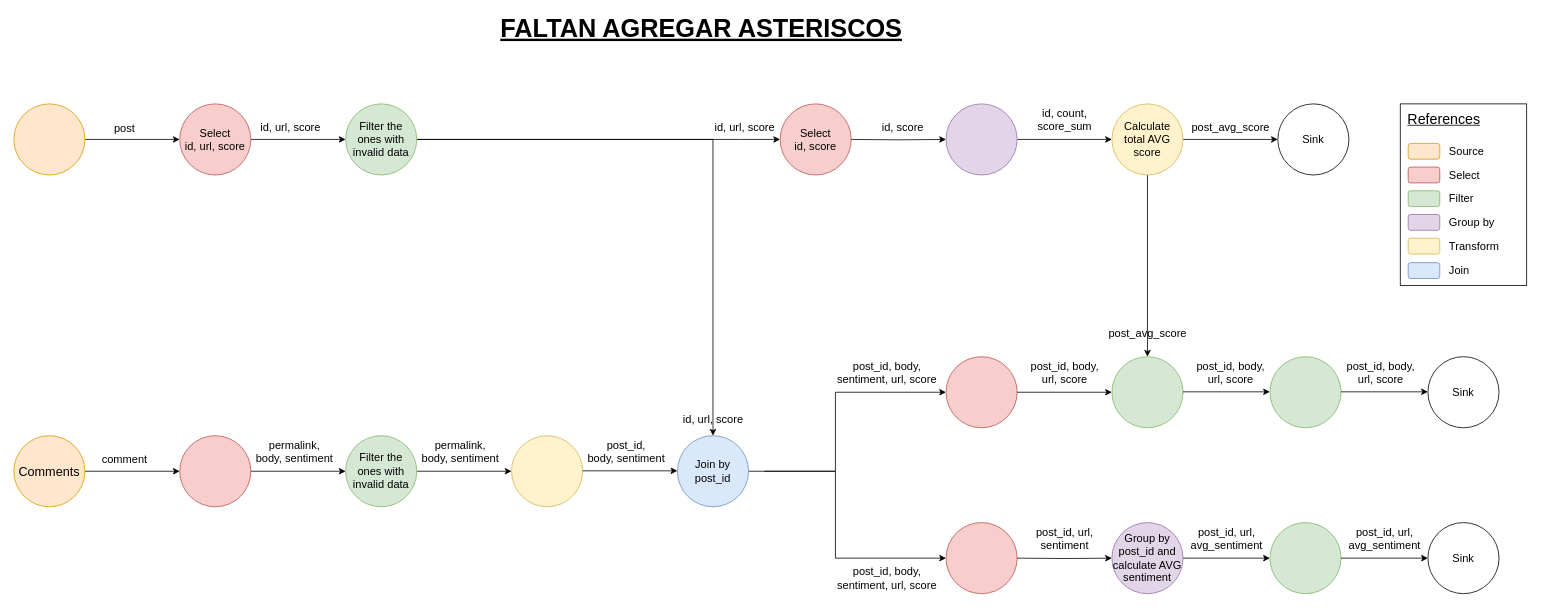
Image size: 1541x608. Some labels were removed from this diagram. The centre of each missing label's shape, as x and y in pixels:
Filter body includes student keywords: point (1305, 392)
Filter MAX sentiment AVG: point (1305, 558)
Filter score > avg: point (1147, 392)
Group all and Count and sum scores: point (981, 139)
Parse permalink to post_id: point (547, 471)
Posts: point (49, 139)
Select permalink, body, sentiment: point (215, 471)
Select post_id, body, url, score: point (981, 392)
Select post_id, url sentiment: point (981, 558)
